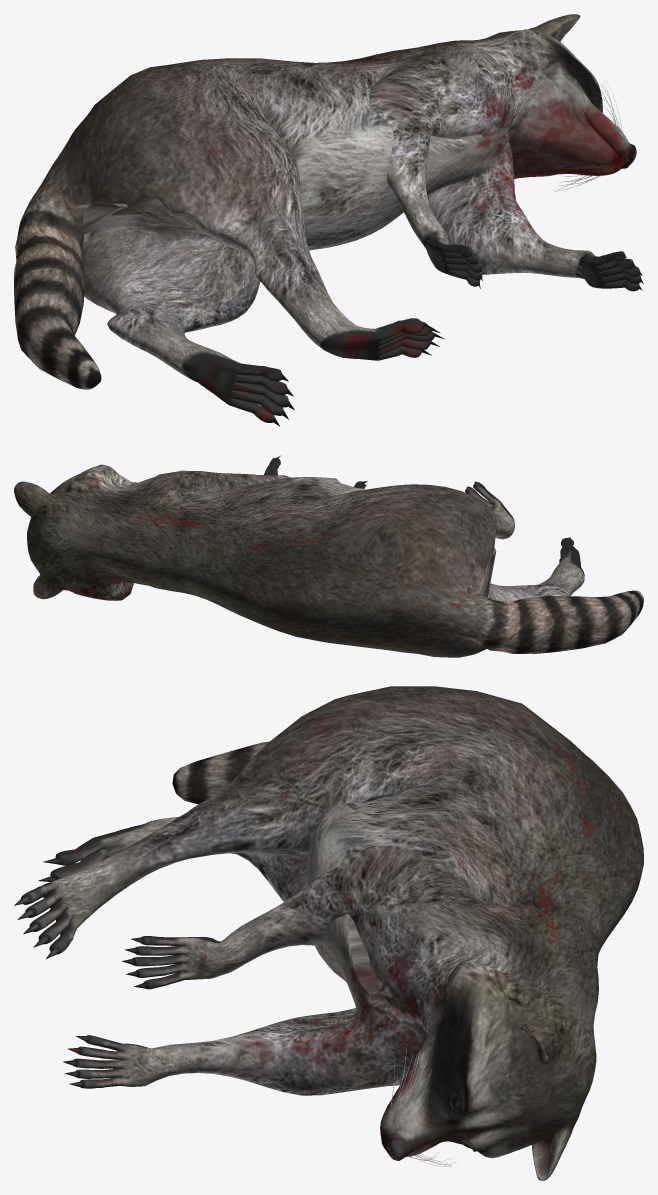
The model's file is Dead_Racoon_01.fbx.
The picture shows the model from 3 angles, top to bottom: view 1: azimuth 30°, elevation 25°; view 2: azimuth 150°, elevation 25°; view 3: azimuth 270°, elevation 25°; orthographic projection. The views are drawn at different scales.
Parts seen in each view (by area): view 1: Racoon.001; view 2: Racoon.001; view 3: Racoon.001.
Part boxes in pixels (box(x1,y1,x2,y2)): Racoon.001: box(14, 14, 643, 426); Racoon.001: box(14, 455, 643, 657); Racoon.001: box(14, 686, 643, 1180).
Bounding box in the file's own units: 74.32 × 109 × 32.16.
Materials: 1 (1 with a texture image).
